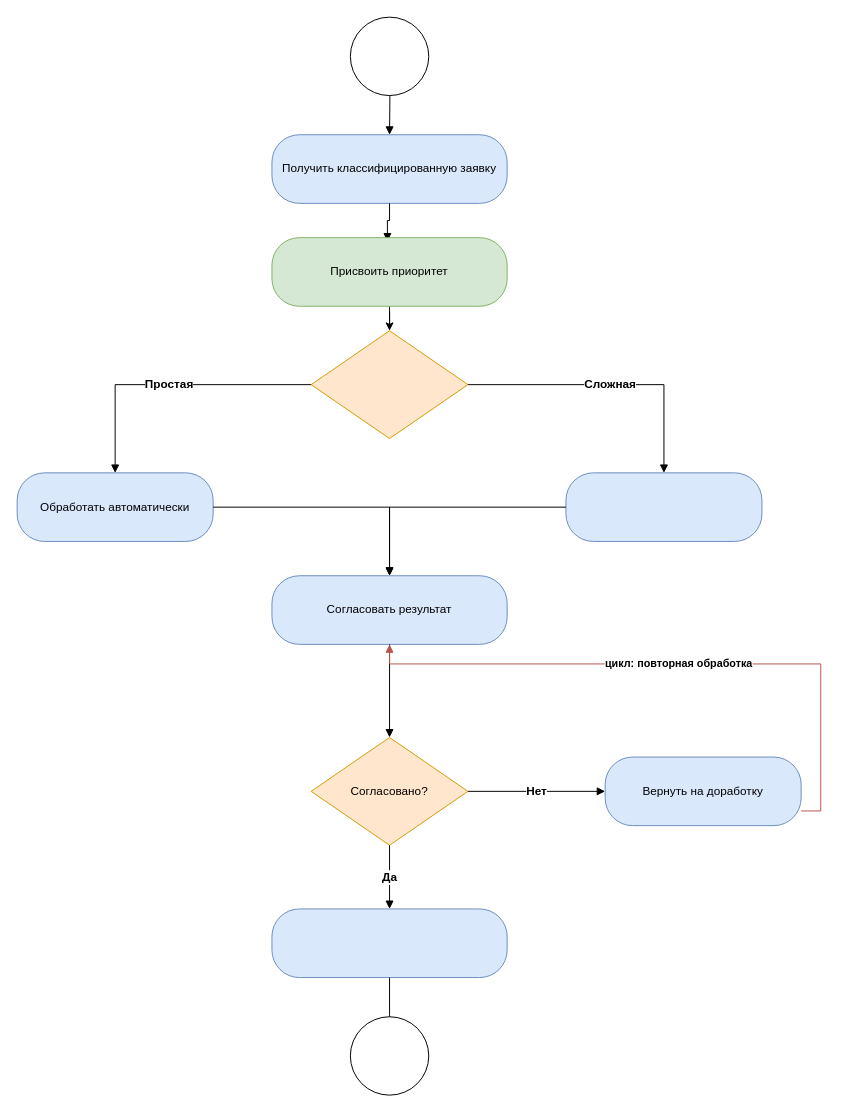
Some shapes in this 846 by 1112 pixel diagram are drawn without their labels. The shapes that lost their labels are listed below. From the top down, each one's centre as x and y in pixels, then its label:
At (x=389, y=384): "Тип заявки?".
At (x=663, y=506): "Передать специалисту на ручную обработку".
At (x=389, y=943): "Зафиксировать результат".
